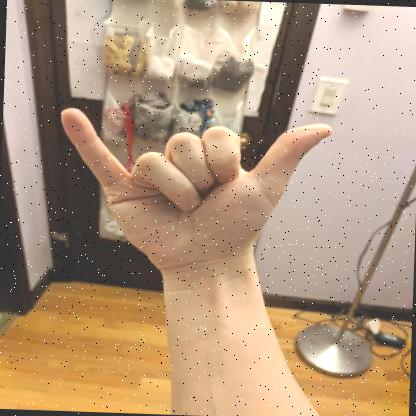Y: (60, 108, 333, 269)
